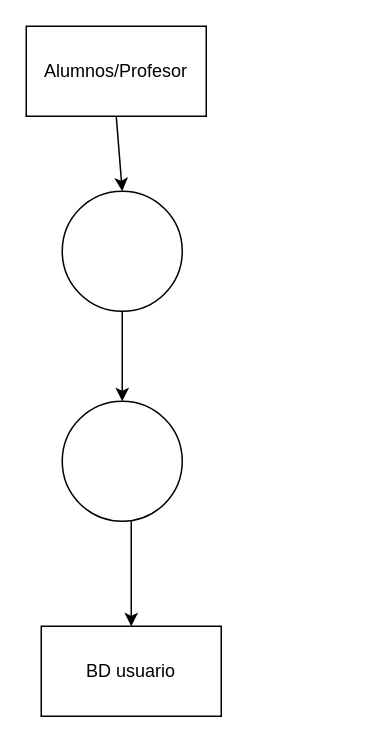
Some shapes in this 380 by 743 pixel diagram are drawn without their labels. The shapes that lost their labels are listed below. From the top down, each one's centre as x and y in pixels, then its label:
At (121,250): "1.1 Introducir credenciales".
At (121,460): "1.2 Comprobar usuario".
